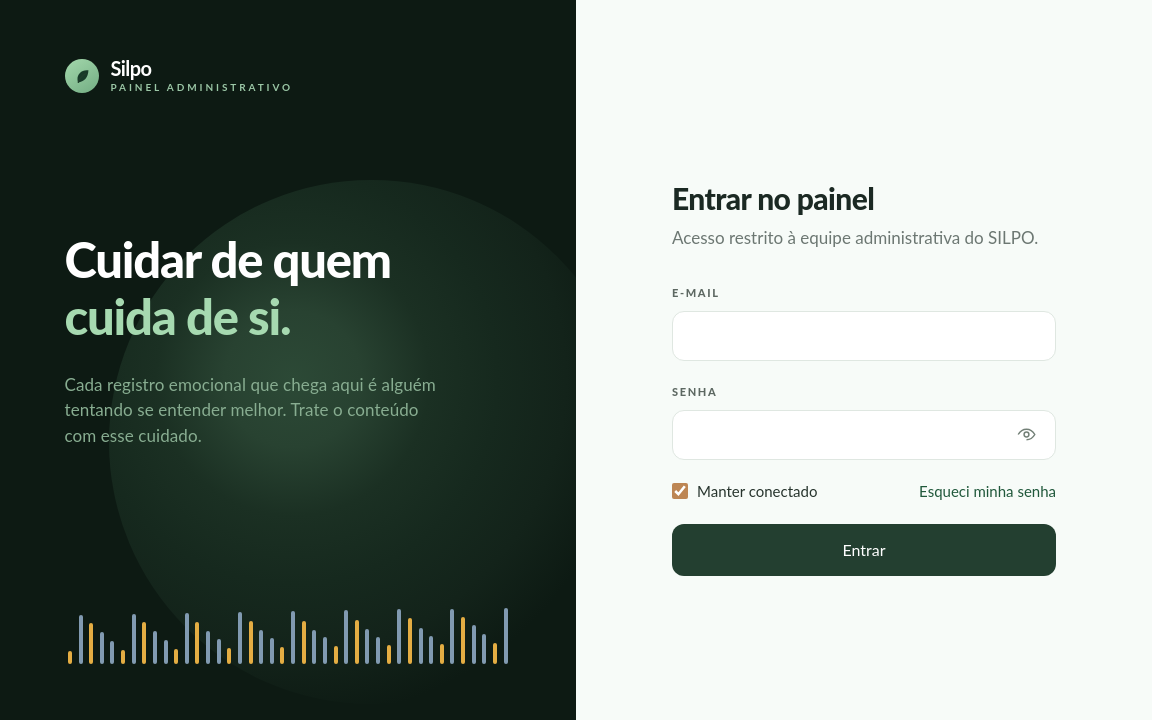
admin authentication › keeps the session only in the tab without "Manter conectado"
Type "admin@silpo.org" into the field labelled "E-mail" at (864, 336), box [672,311,1056,361]
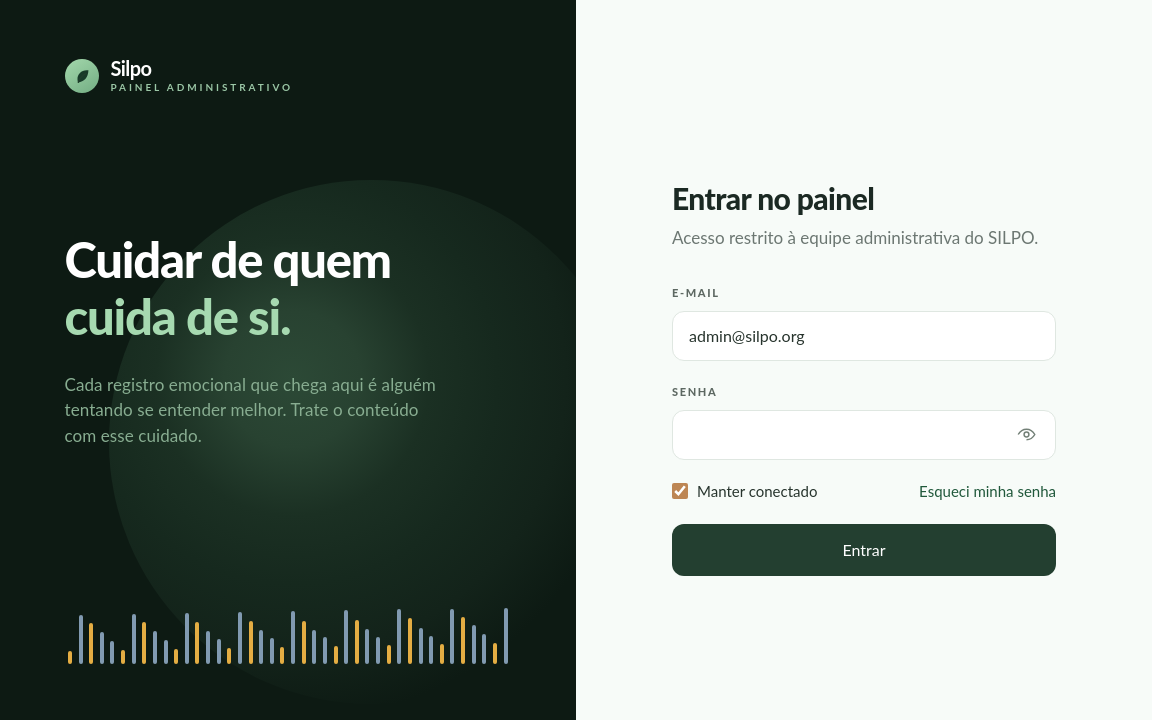
Type "senha-segura" into the password field labelled "Senha" at (864, 435), box [672,410,1056,460]
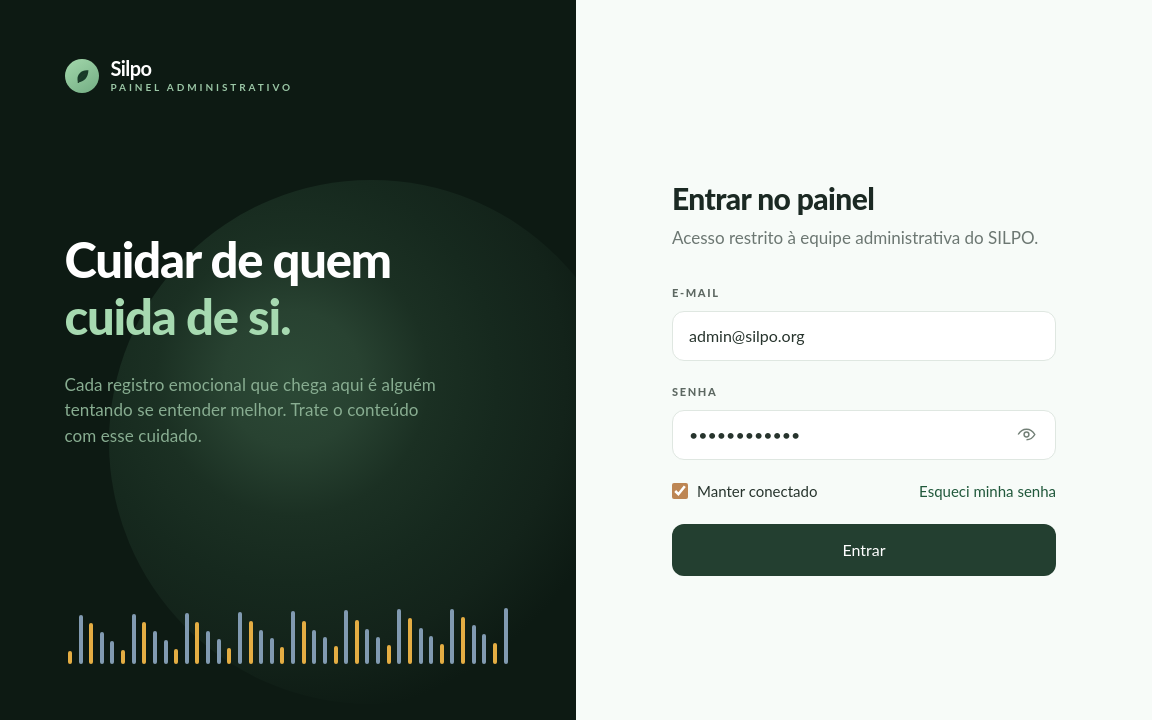
Click the checkbox labelled "Manter conectado" at (680, 491), box [672,483,688,499]
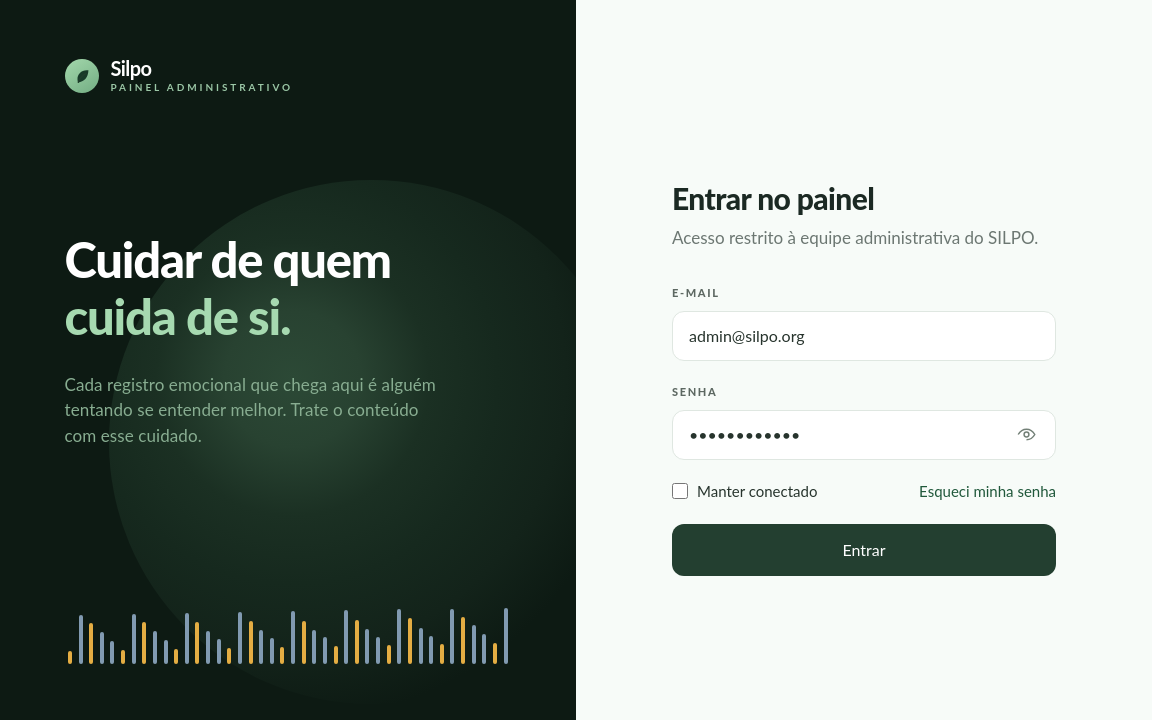
Click the button "Entrar" at (864, 550), box [672,524,1056,576]
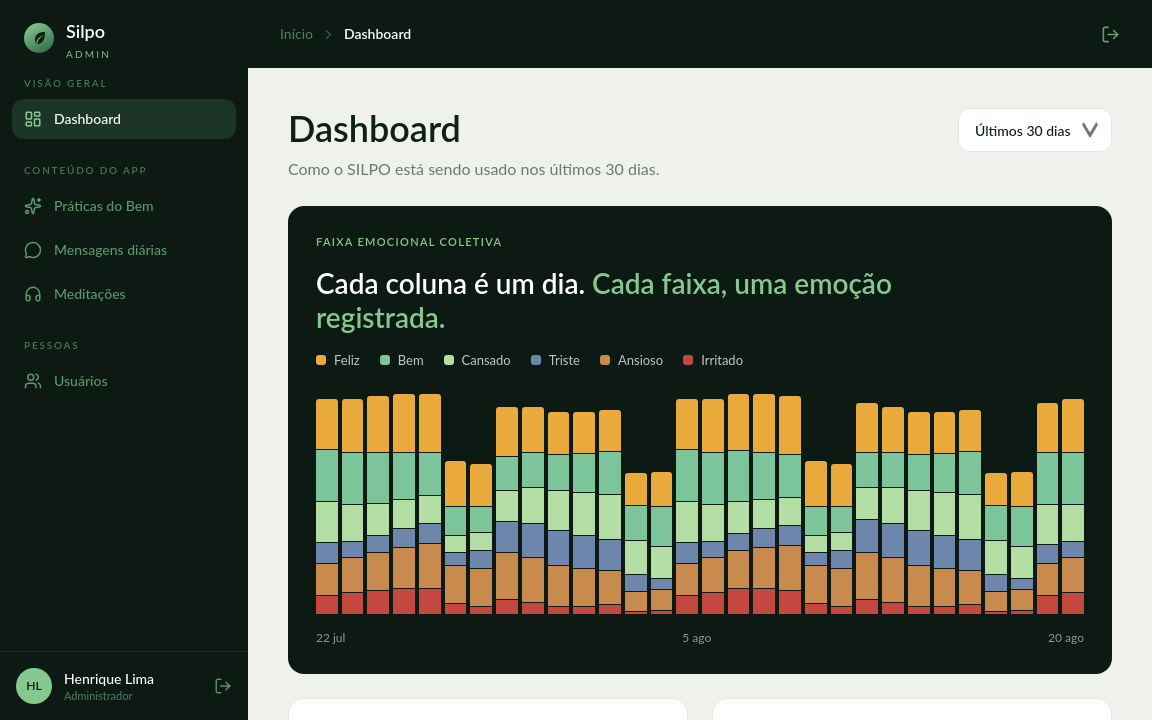
expect the heading "Dashboard" is shown: met, box [288,106,461,150]
